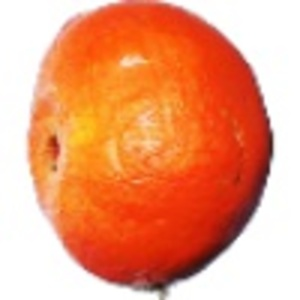tangerina: (25, 1, 276, 300)
